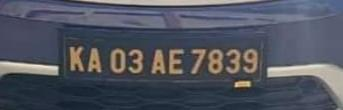0: (109, 46, 128, 76)
3: (126, 43, 146, 75), (225, 46, 242, 78)
7: (188, 45, 207, 75)
8: (207, 46, 225, 77)
9: (241, 44, 259, 76)
A: (150, 47, 168, 77), (87, 44, 102, 75)
E: (166, 44, 185, 76)
K: (67, 43, 86, 73)
